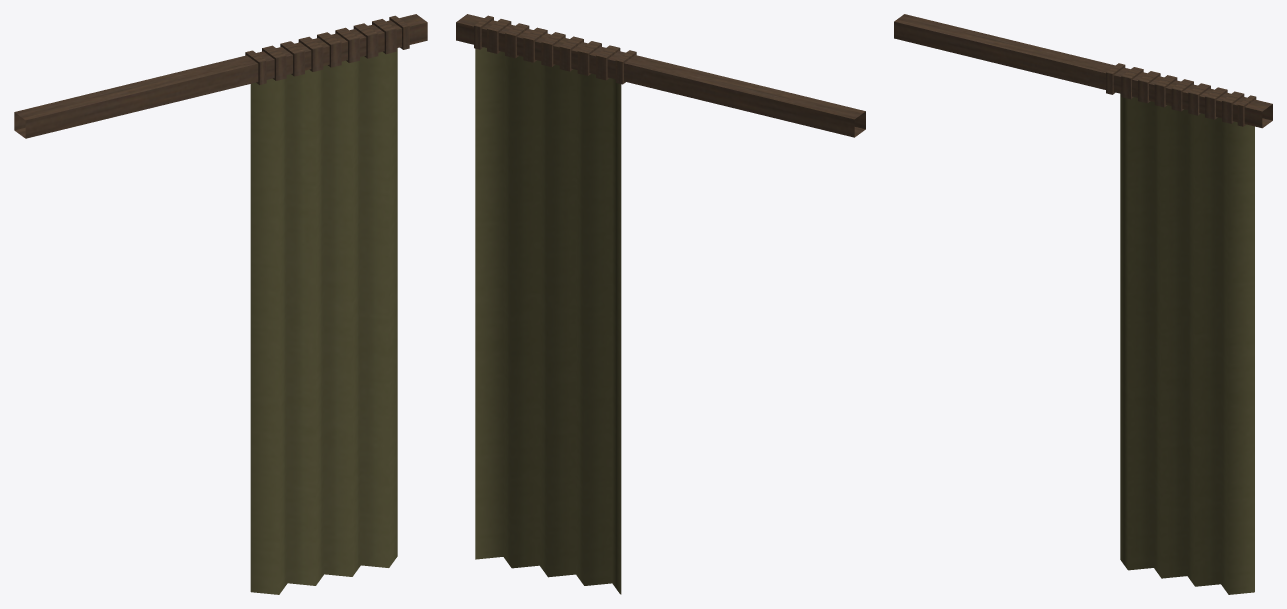
The model's file is Curtain_4B.fbx.
The picture shows the model from 3 angles, left to right: view 1: azimuth 30°, elevation 25°; view 2: azimuth 150°, elevation 25°; view 3: azimuth 330°, elevation 25°; orthographic projection. The views are drawn at different scales.
Visible parts, largest first — view 1: polySurface812; view 2: polySurface812; view 3: polySurface812.
Boxes of the visible parts, x1,y1,x2,y2 form: polySurface812: (14,14,427,594); polySurface812: (456,14,865,594); polySurface812: (894,14,1272,594).
Bounding box in the file's own units: 2.4 × 3.08 × 0.1452.
